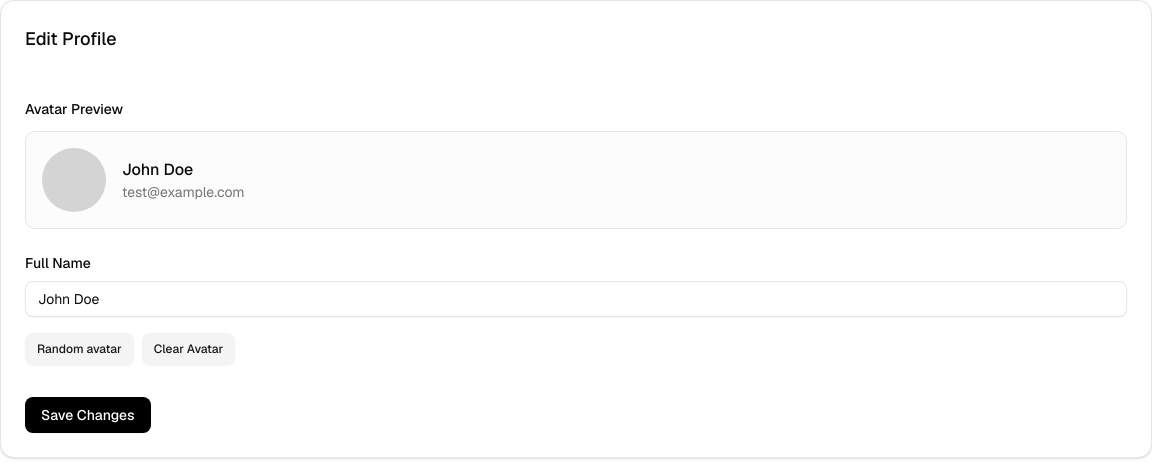
Test: Profile Form Workflow Integration › Form state management integration › should handle user interactions during loading states
The width and height of the screenshot is (1152, 476).
What coordinates should you click on to do the following:
click the button "Save Changes"
I would click on:
 (88, 415)
Its box is 25,397 -> 151,433.
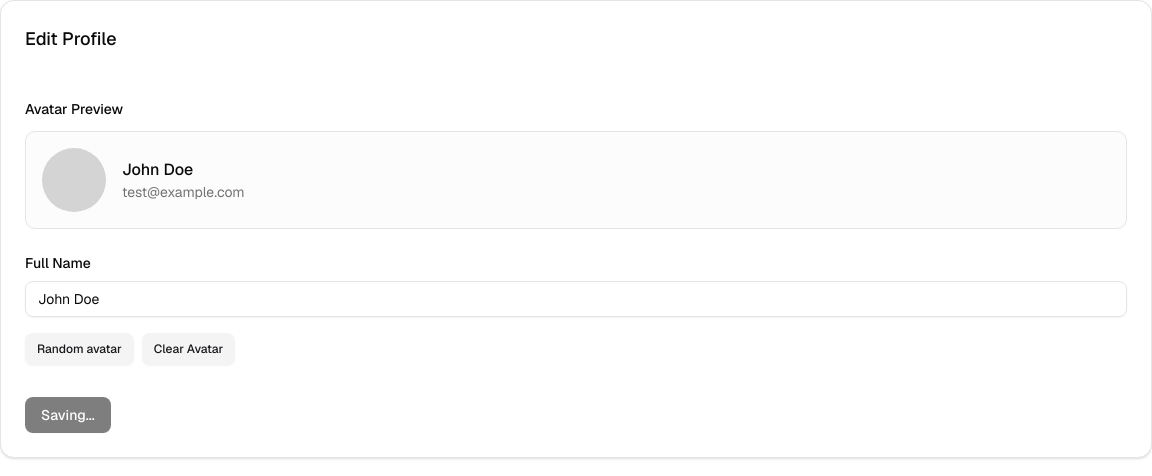
Expected: the button named "save changes" is disabled
What coordinates should you click on to do the following:
click the button named "save changes"
I would click on:
 (68, 415)
Its box is 25,397 -> 111,433.
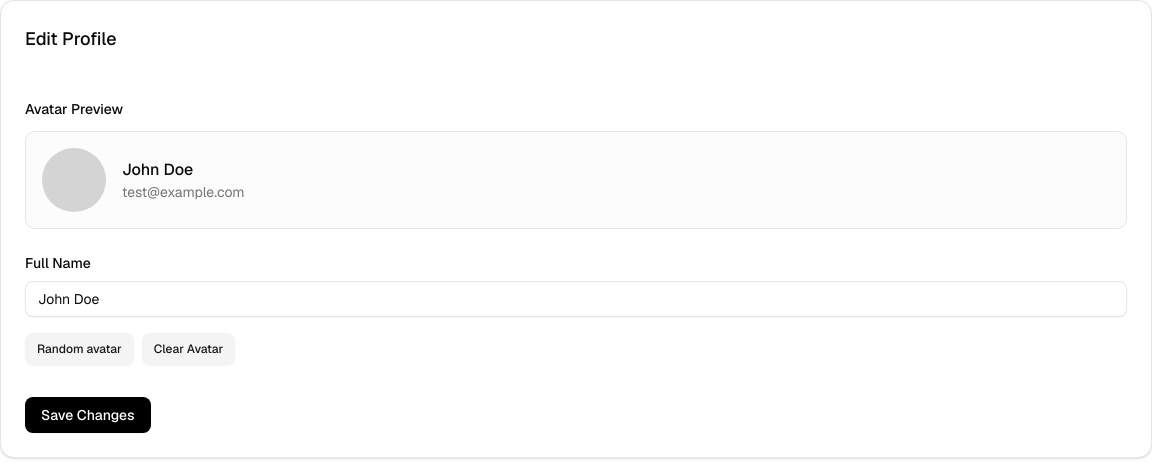
Expected: the button "Save Changes" is enabled, 25,397 -> 151,433
